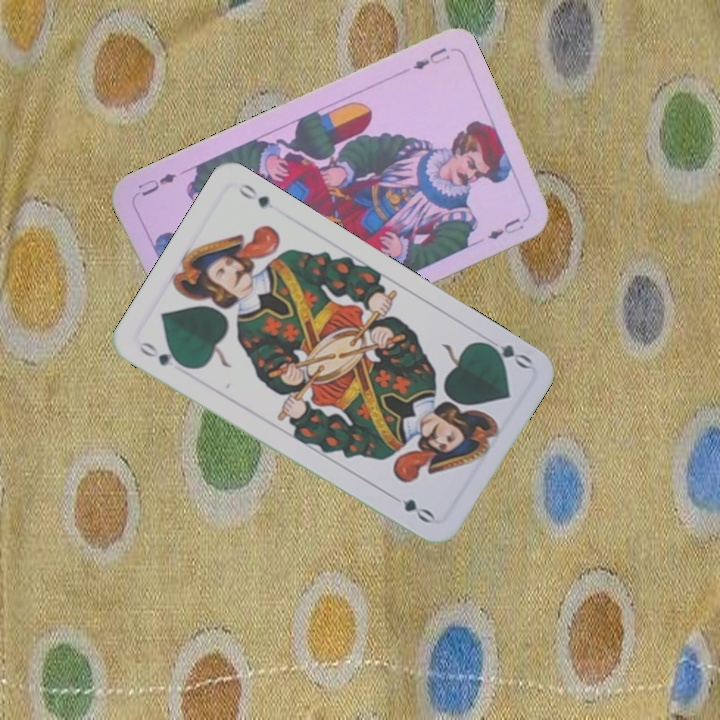EU: (409, 43, 453, 73)
GO: (477, 332, 535, 372), (135, 337, 190, 371)
